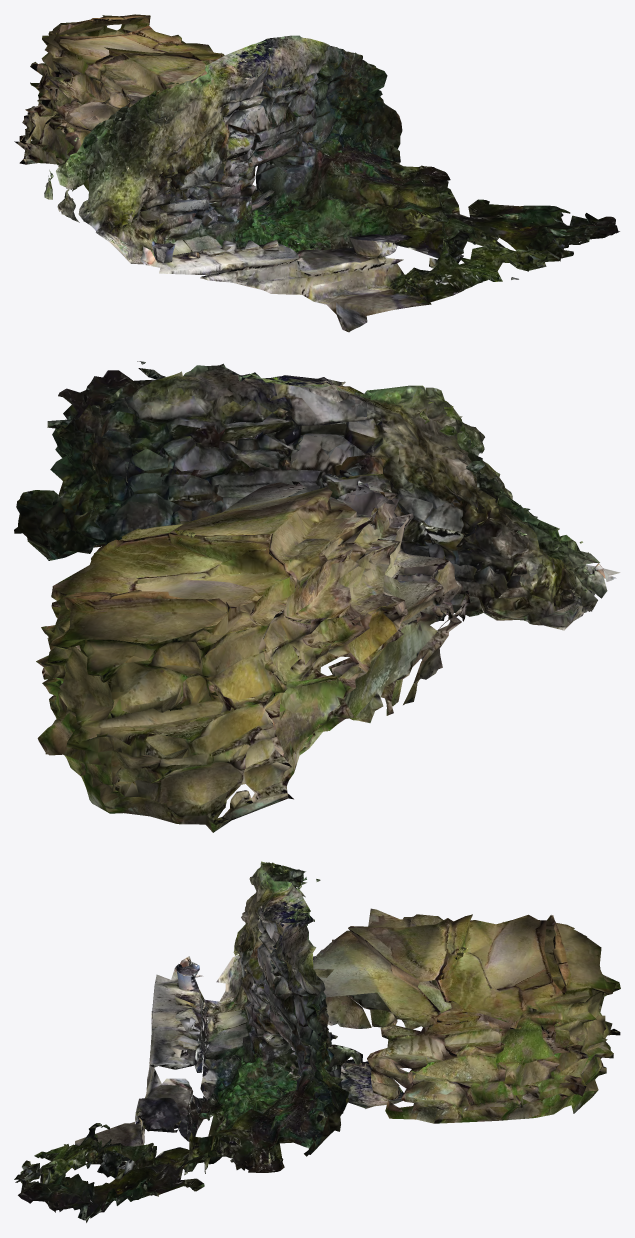
Rendered from sweathouse.glb.
3 views of the same model, one above another, from view 1: azimuth 30°, elevation 25°; view 2: azimuth 150°, elevation 25°; view 3: azimuth 270°, elevation 25° (orthographic). The views are drawn at different scales.
Parts seen in each view (by area): view 1: Object_3, Object_2; view 2: Object_2, Object_3; view 3: Object_3, Object_2.
Boxes of the visible parts, left/top/right/bottom form: Object_3: left=44, top=35, right=619, bottom=332; Object_2: left=14, top=14, right=235, bottom=191; Object_2: left=36, top=469, right=470, bottom=832; Object_3: left=14, top=361, right=620, bottom=630; Object_3: left=14, top=861, right=403, bottom=1222; Object_2: left=313, top=908, right=620, bottom=1123.
Size of the model in its own units: 89.66 by 41.51 by 92.62.
Materials: 2 (2 with a texture image).
